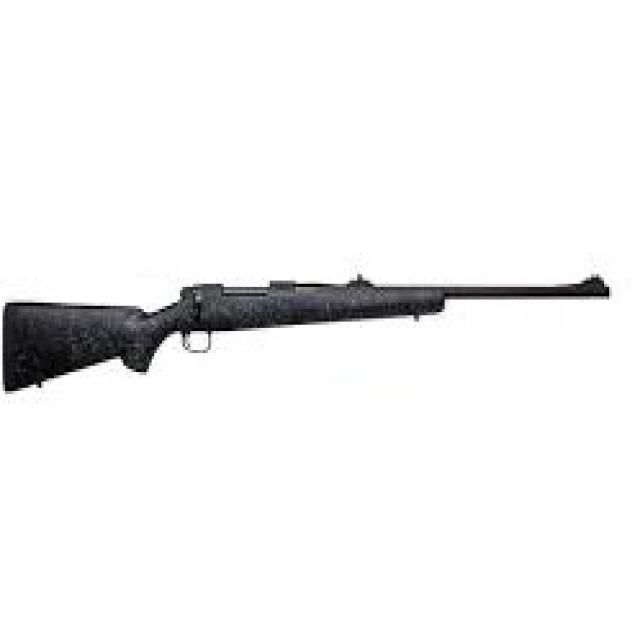rifle: (2, 264, 614, 406)
